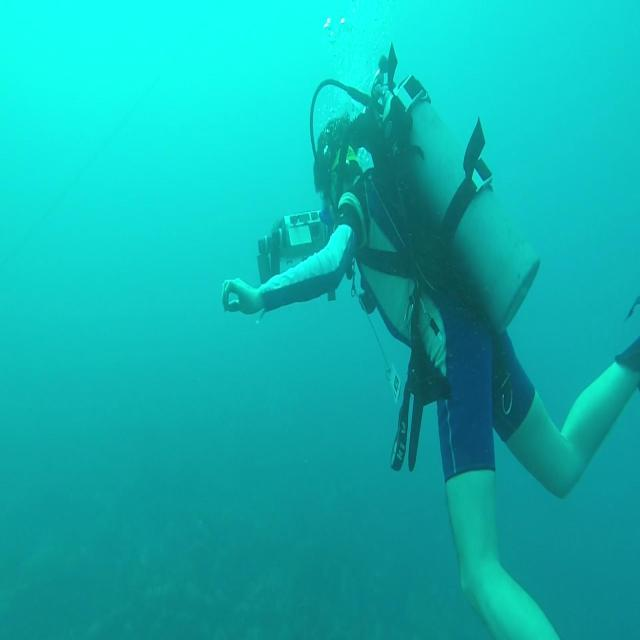human: (221, 48, 639, 637)
